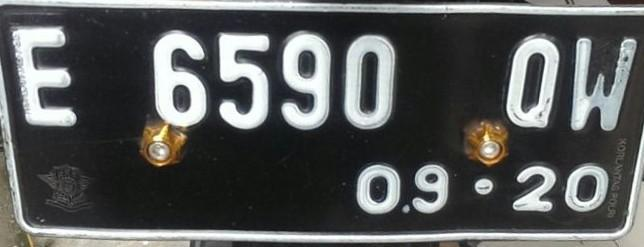0: (336, 30, 399, 132)
5: (212, 28, 278, 133)
6: (152, 30, 214, 126)
9: (270, 29, 338, 133)
E: (7, 28, 92, 130)
Q: (501, 31, 571, 133)
W: (561, 33, 637, 135)
